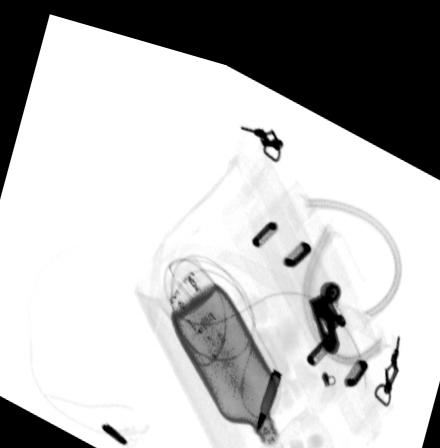Bullet: (256, 351, 282, 414)
